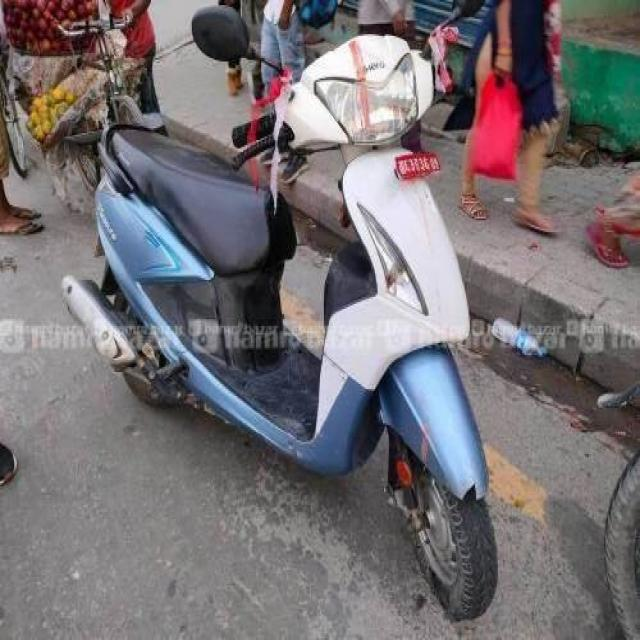License-plate: (393, 148, 443, 182)
